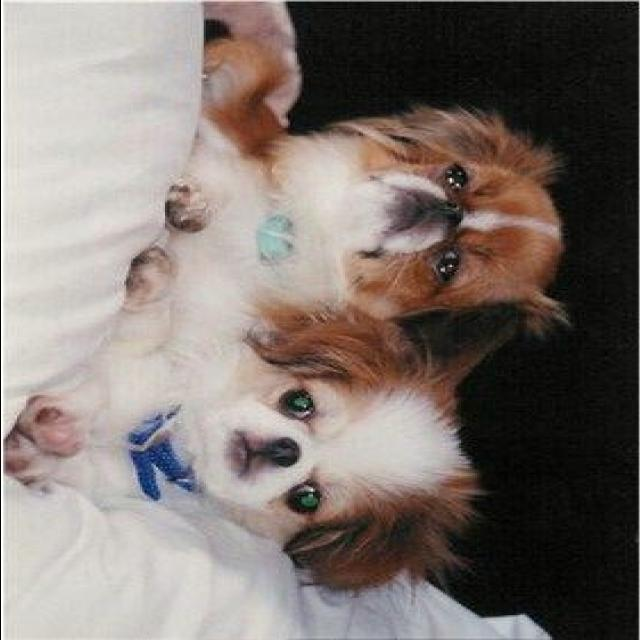husky: (5, 297, 482, 593), (173, 34, 574, 342)
